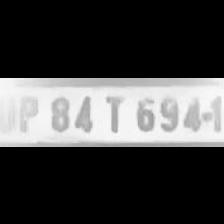1: (206, 91, 222, 131)
4: (70, 92, 98, 132), (182, 92, 202, 132)
6: (129, 92, 155, 132)
8: (44, 91, 72, 131)
9: (154, 92, 180, 132)
P: (10, 92, 40, 132)
T: (100, 92, 126, 132)
U: (0, 89, 14, 133)
